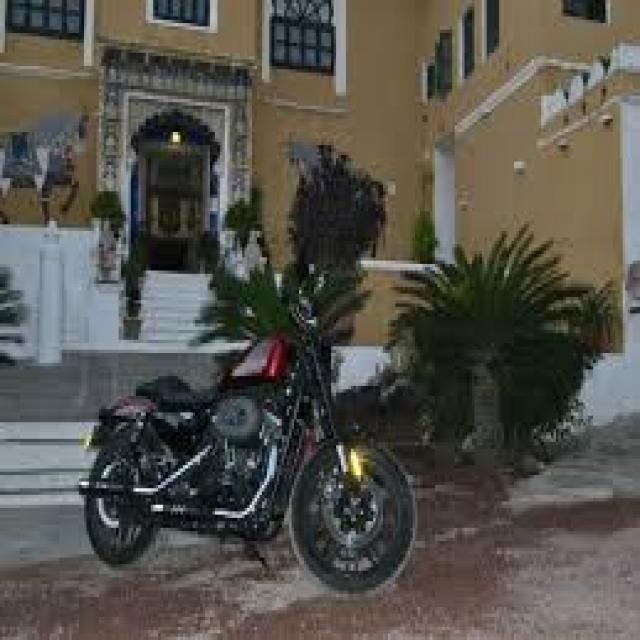Bike: (86, 299, 419, 594)
